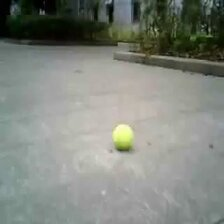tennis: (113, 124, 134, 150)
